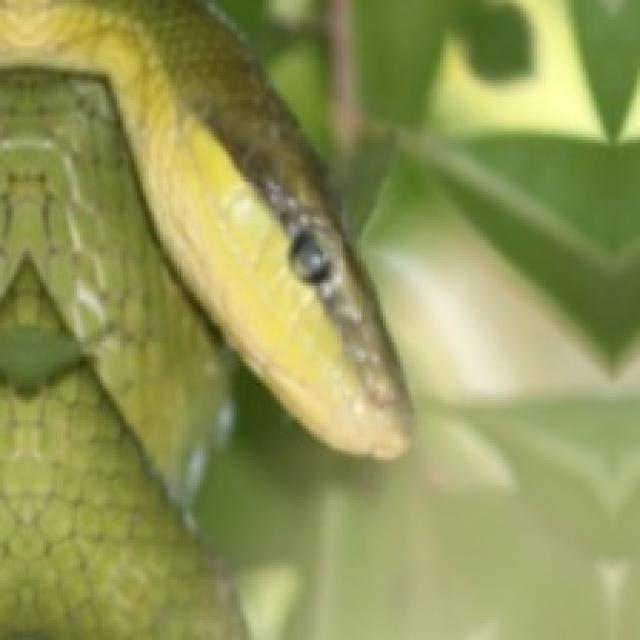red-tailed green ratsnake: (0, 0, 409, 637)
